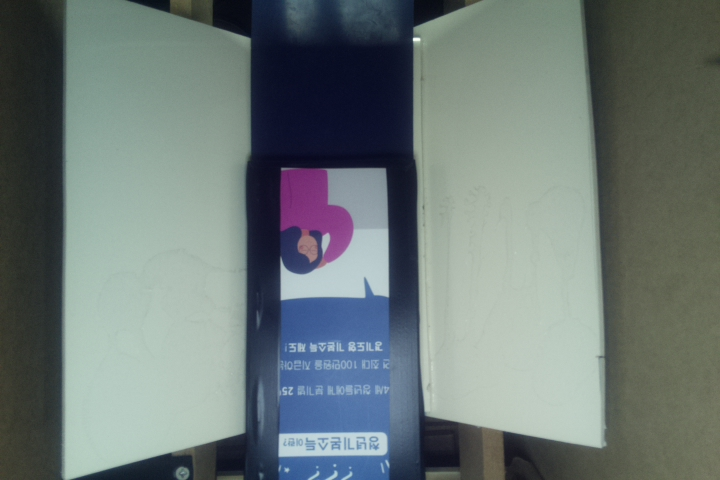book: (244, 155, 420, 480)
